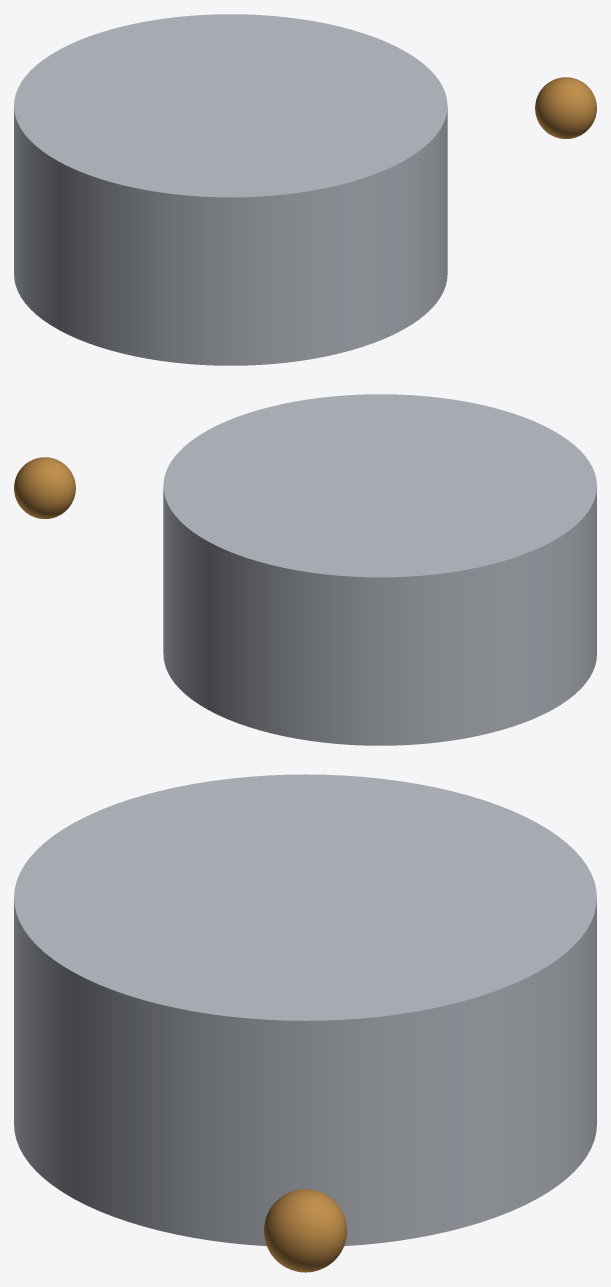
Rendered from solid-before.glb.
3 views of the same model, one above another, from view 1: azimuth 30°, elevation 25°; view 2: azimuth 150°, elevation 25°; view 3: azimuth 270°, elevation 25° (orthographic). The views are drawn at different scales.
Parts seen in each view (by area): view 1: bushing, preserved; view 2: bushing, preserved; view 3: bushing, preserved.
Boxes of the visible parts, box(x1,y1,x2,y2) form: bushing: box(14, 14, 447, 365); preserved: box(535, 77, 596, 138); bushing: box(163, 394, 596, 745); preserved: box(14, 457, 75, 518); bushing: box(14, 774, 596, 1246); preserved: box(264, 1189, 346, 1272).
Bounding box in the file's own units: 0.041 × 0.012 × 0.028.
